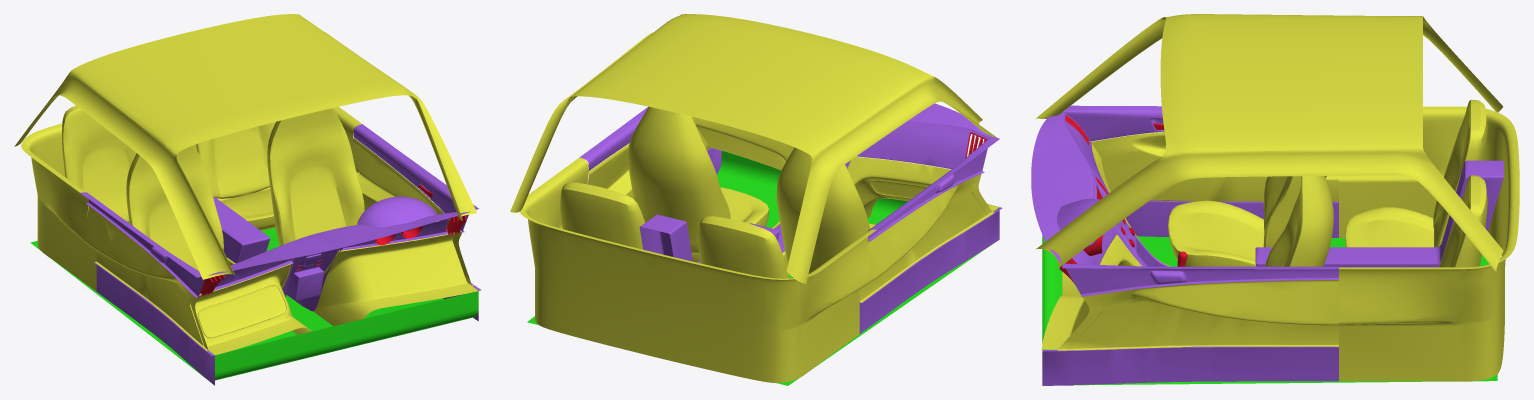
Rendered from Interior_1.fbx.
3 renders of one model, left to right at view 1: azimuth 30°, elevation 25°; view 2: azimuth 150°, elevation 25°; view 3: azimuth 270°, elevation 25°, orthographic. The views are drawn at different scales.
Parts seen in each view (by area): view 1: Interior_1; view 2: Interior_1; view 3: Interior_1.
Part boxes in pixels (x1,y1,x2,y2): Interior_1: [14, 14, 481, 385]; Interior_1: [510, 14, 1002, 385]; Interior_1: [1031, 14, 1519, 385].
Size of the model in its own units: 148 by 103 by 188.
